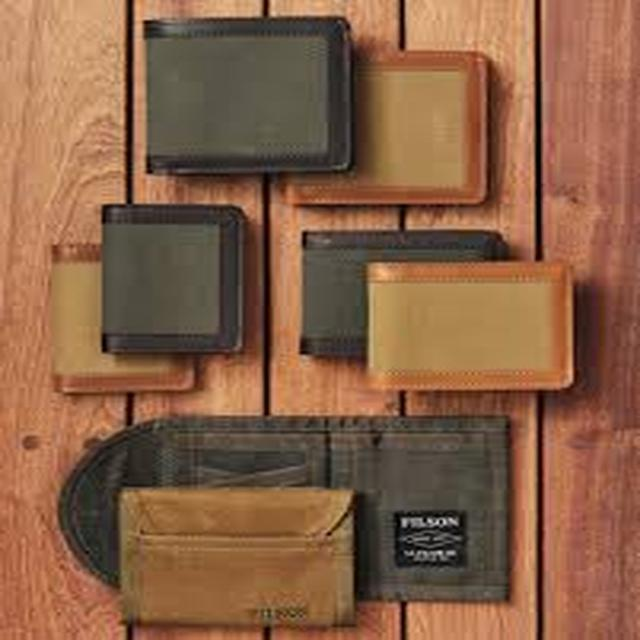wallet: (40, 439, 448, 640), (62, 180, 296, 384), (117, 10, 365, 187), (359, 250, 598, 421)
